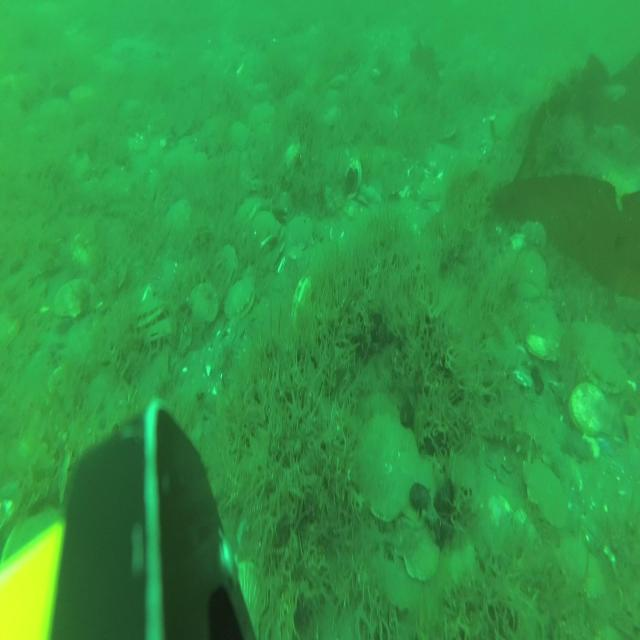holothurian: (483, 410, 535, 460)
scallop: (358, 414, 420, 517), (524, 462, 569, 536), (401, 461, 437, 527), (570, 379, 610, 436), (582, 342, 626, 393), (404, 526, 440, 580), (55, 282, 94, 327), (393, 503, 423, 550), (285, 217, 315, 257), (532, 301, 558, 342), (189, 285, 217, 323), (227, 284, 254, 323), (214, 249, 239, 291), (526, 330, 557, 361), (519, 247, 547, 280), (137, 300, 166, 330), (168, 202, 193, 236), (146, 324, 176, 349), (253, 214, 275, 246), (238, 192, 258, 227), (420, 178, 440, 208), (230, 122, 250, 151)
